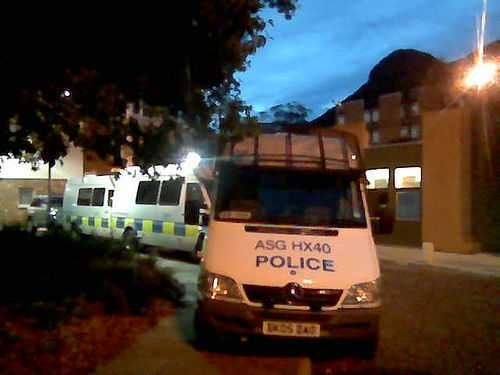Police Van: (195, 93, 394, 361), (128, 162, 213, 276), (61, 162, 119, 252)
